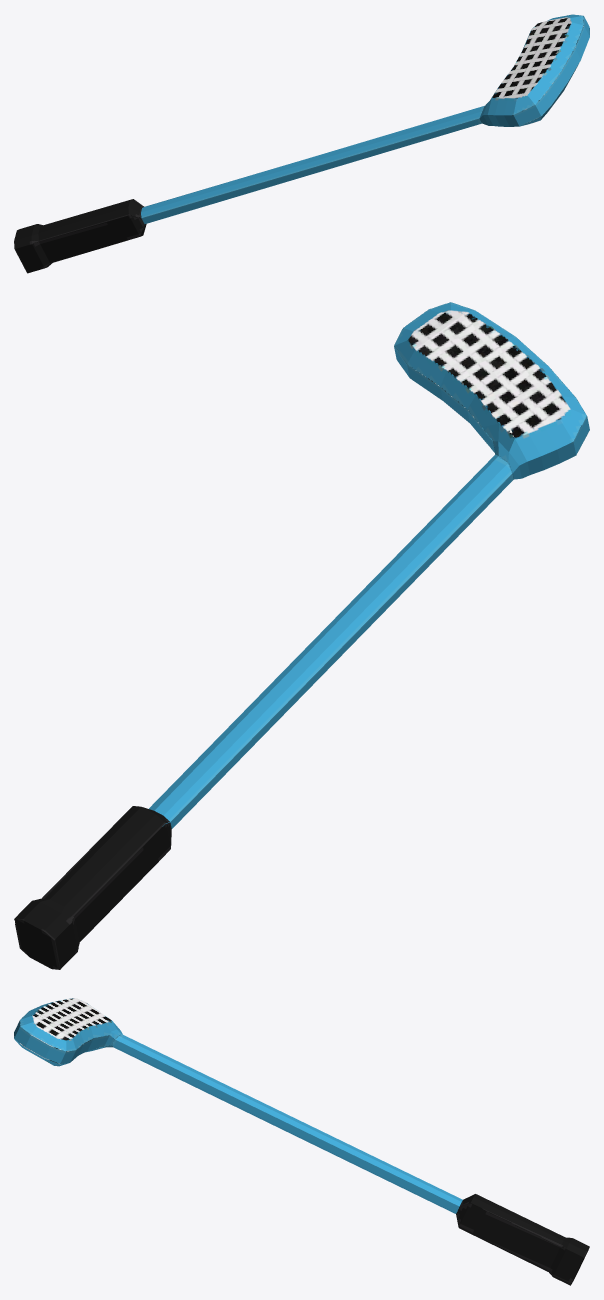
File: FloorballStickAnimated_Blue.fbx
The picture shows the model from 3 angles, top to bottom: view 1: azimuth 90°, elevation 25°; view 2: azimuth 150°, elevation 25°; view 3: azimuth 270°, elevation 25°; orthographic projection. The views are drawn at different scales.
Parts seen in each view (by area): view 1: floorball stick; view 2: floorball stick; view 3: floorball stick.
Part boxes in pixels (x1,y1,x2,y2): floorball stick: (14, 14, 589, 273); floorball stick: (14, 302, 589, 969); floorball stick: (14, 998, 589, 1285).
Bounding box in the file's own units: 40.65 × 71.35 × 145.
